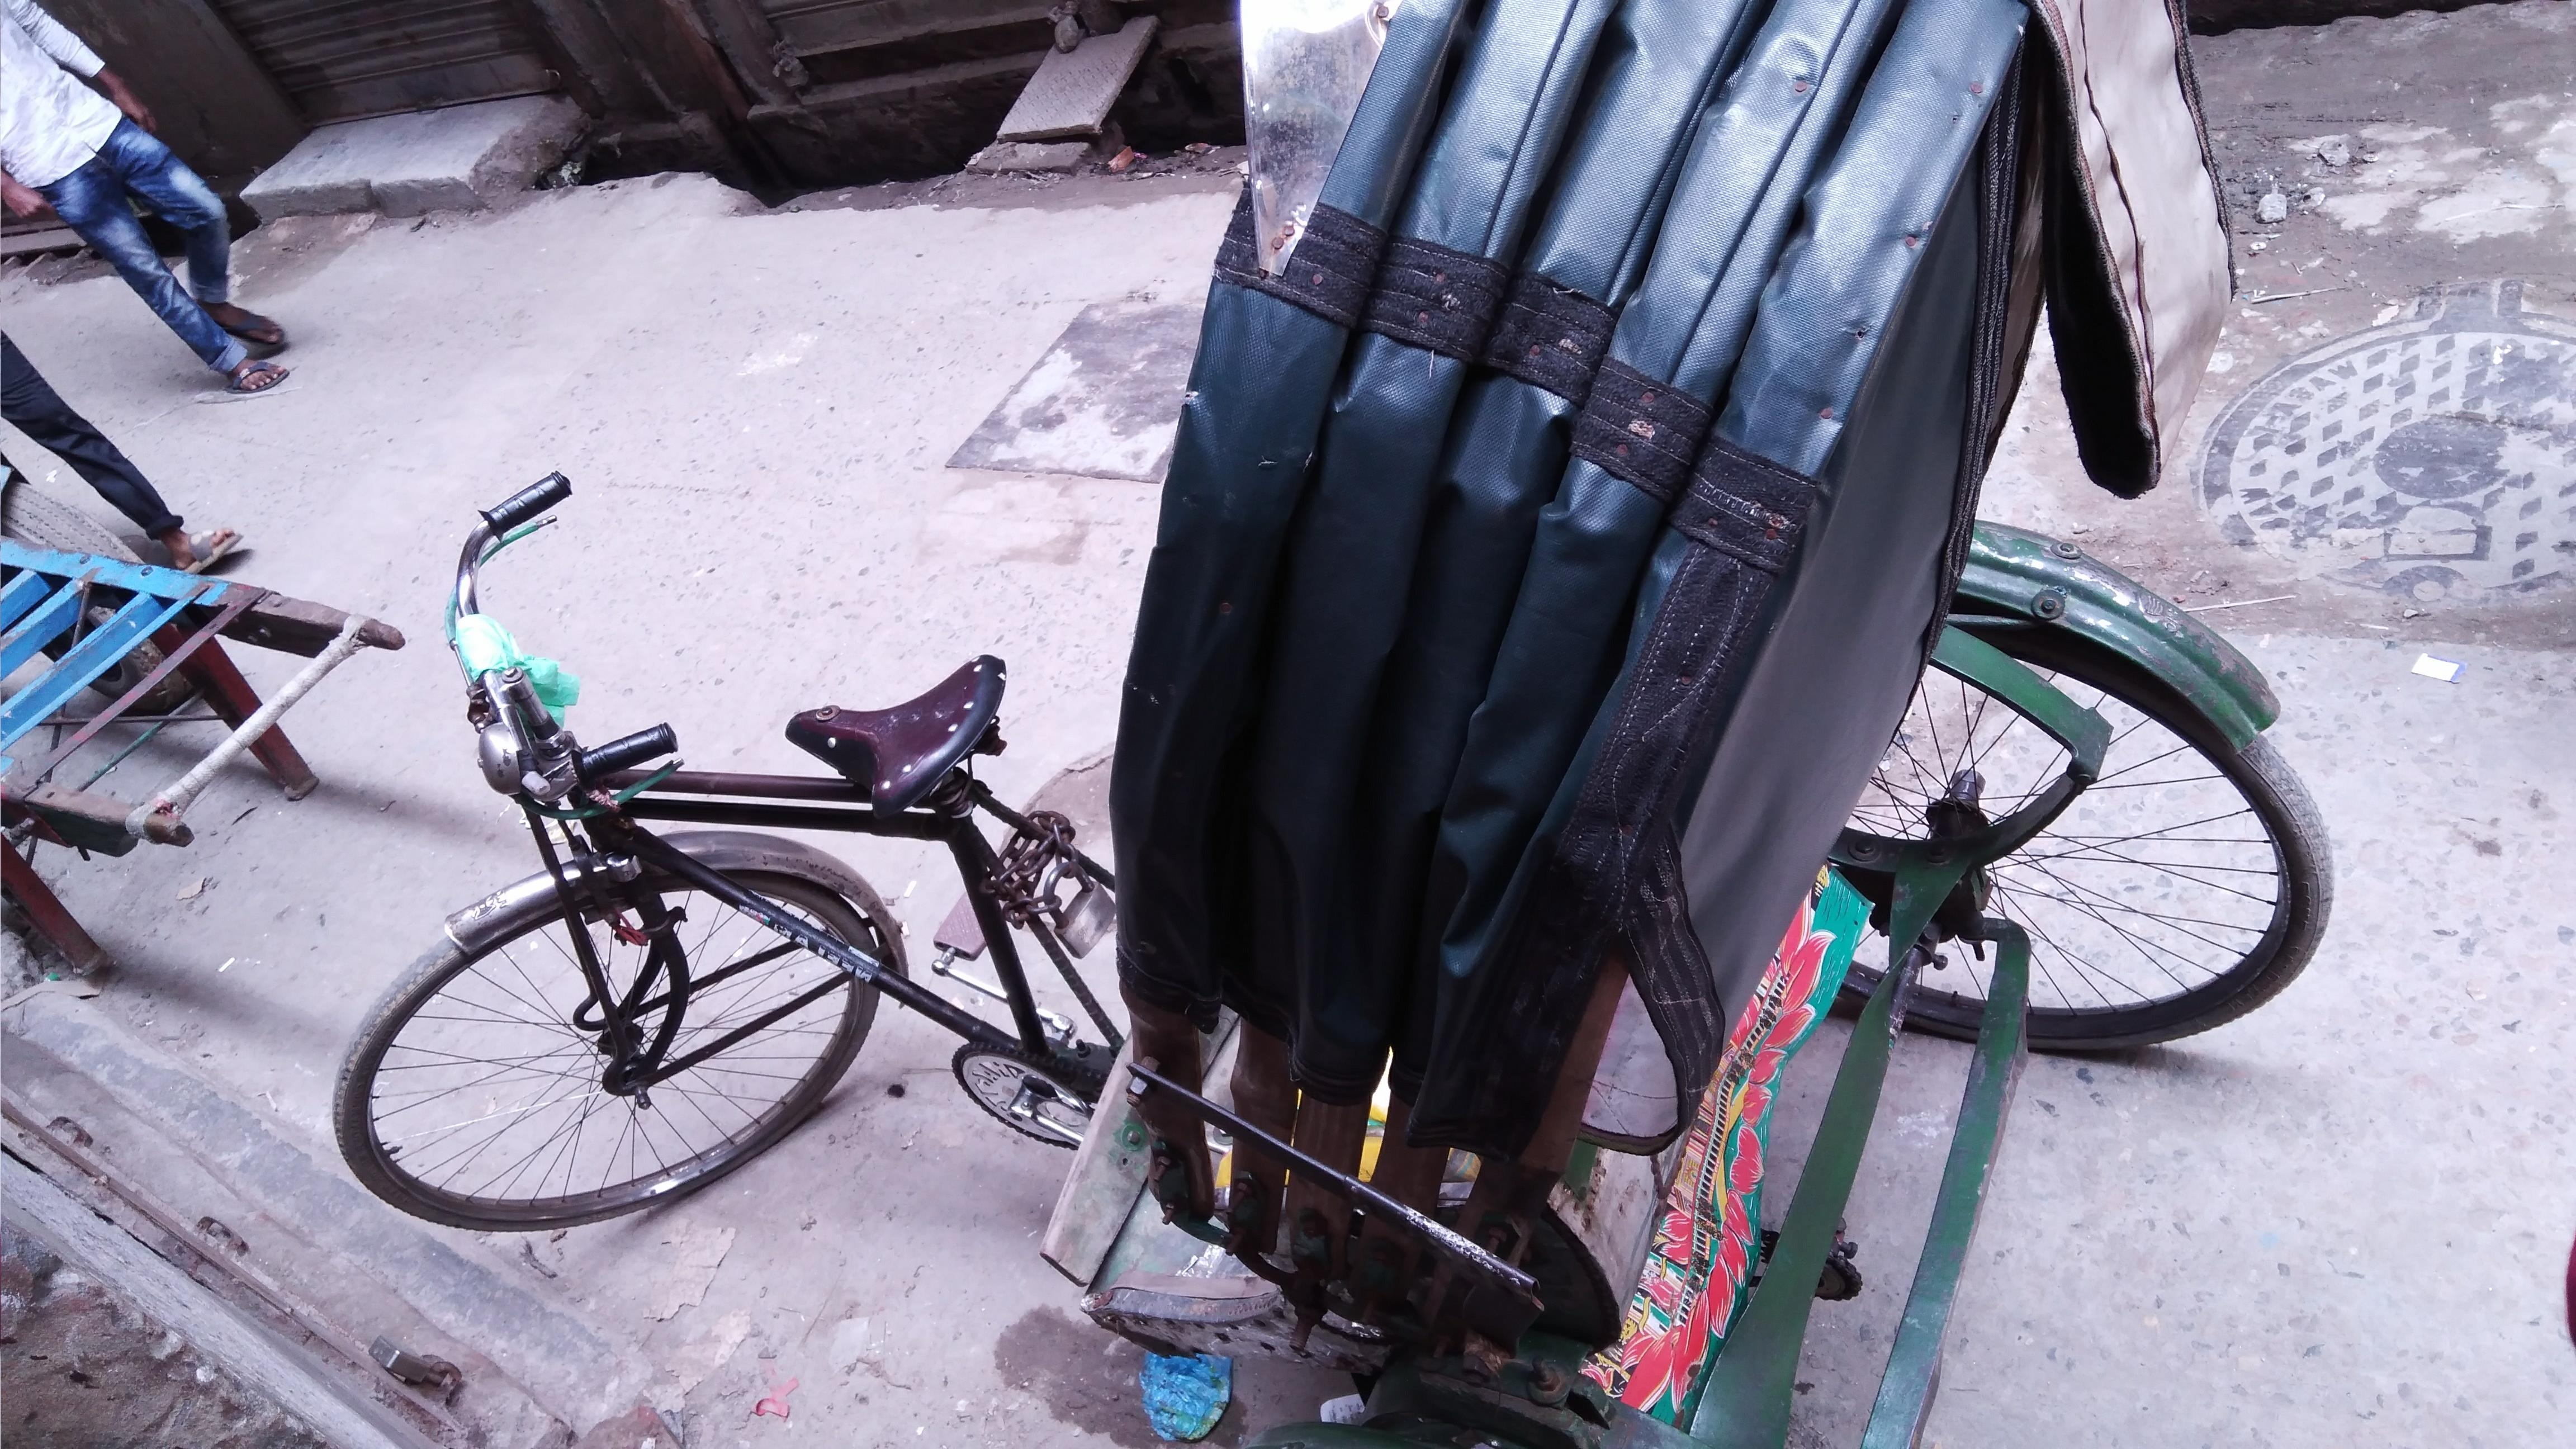Rickshaw: (341, 18, 2254, 1444)
